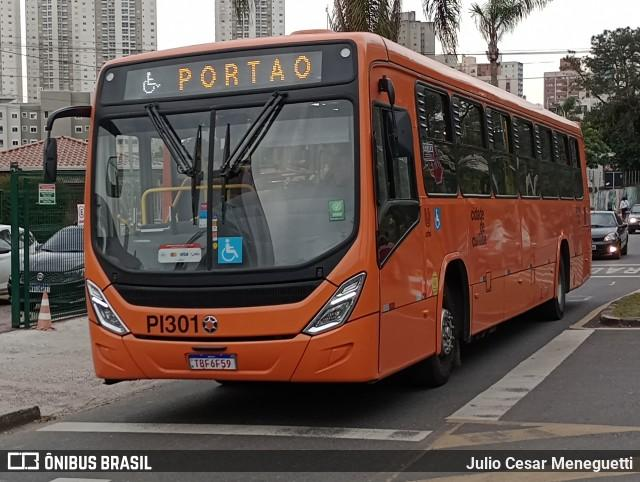PORTAO: (167, 52, 315, 93)
